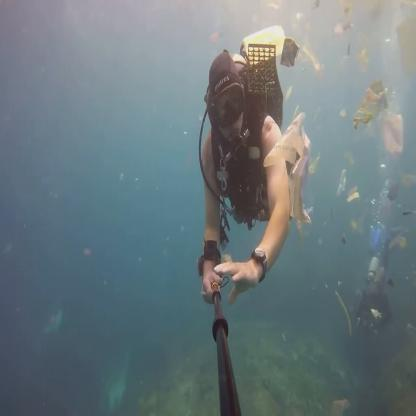Rác: (357, 83, 400, 146), (338, 2, 358, 48), (397, 13, 415, 63), (334, 173, 362, 203)
